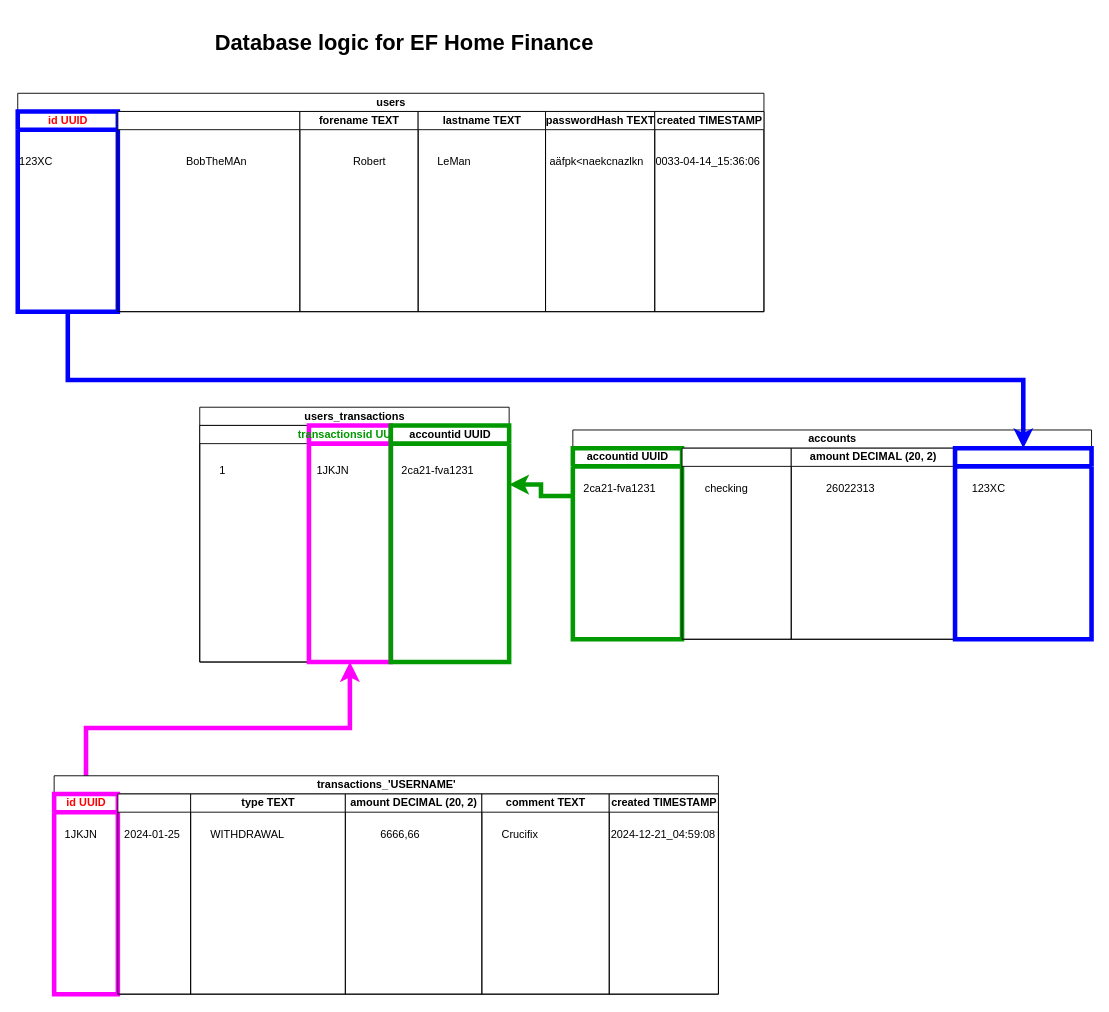
Image size: 1109x1012. Some labels were removed from this diagram. The centre of each missing label's shape, as x and y in pixels:
"date DATE" goes at (154,893).
"id SERIAL" goes at (254,543).
"name TEXT" goes at (736,543).
"userid UUID" goes at (1022,543).
"username TEXT" goes at (208,211).
